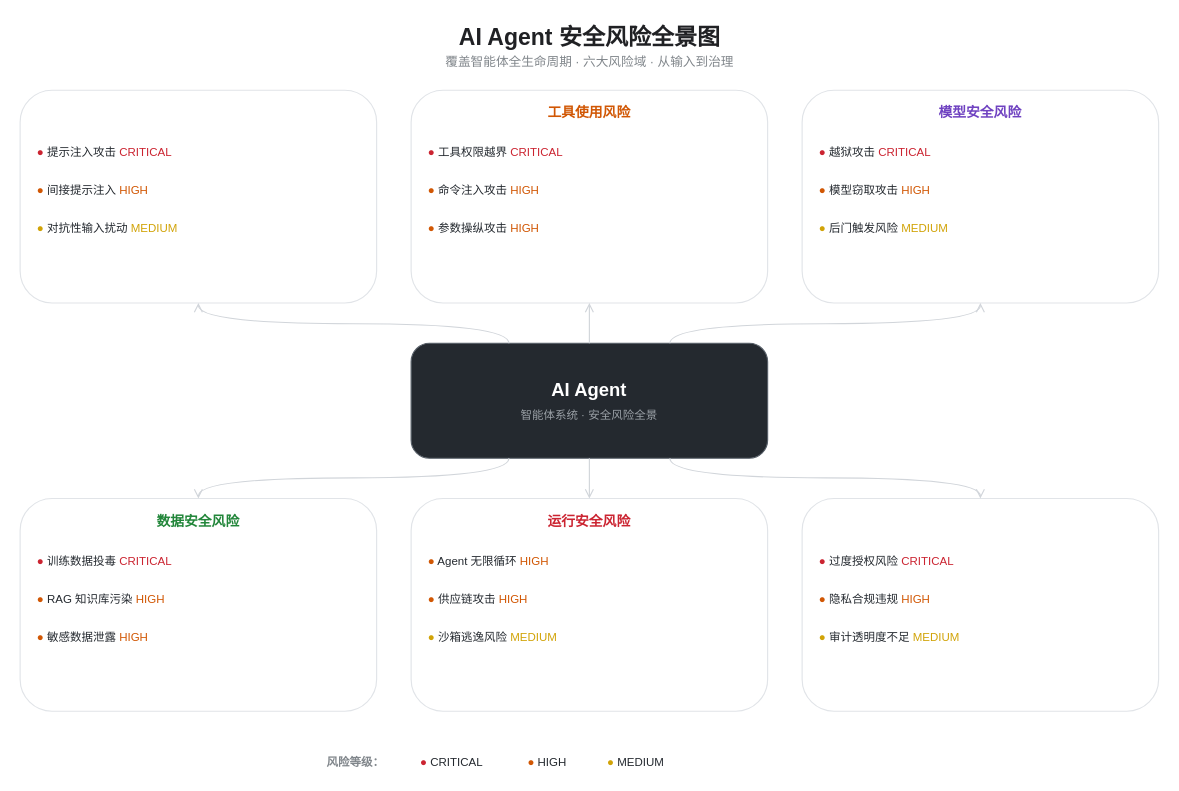
This 1179x791 diagram has some shape labels left out. The box of each missing label's shape, as (x1, y1, x2, y2) in pixels:
治理合规风险: (801, 497, 1159, 711)
输入安全风险: (19, 89, 377, 303)
